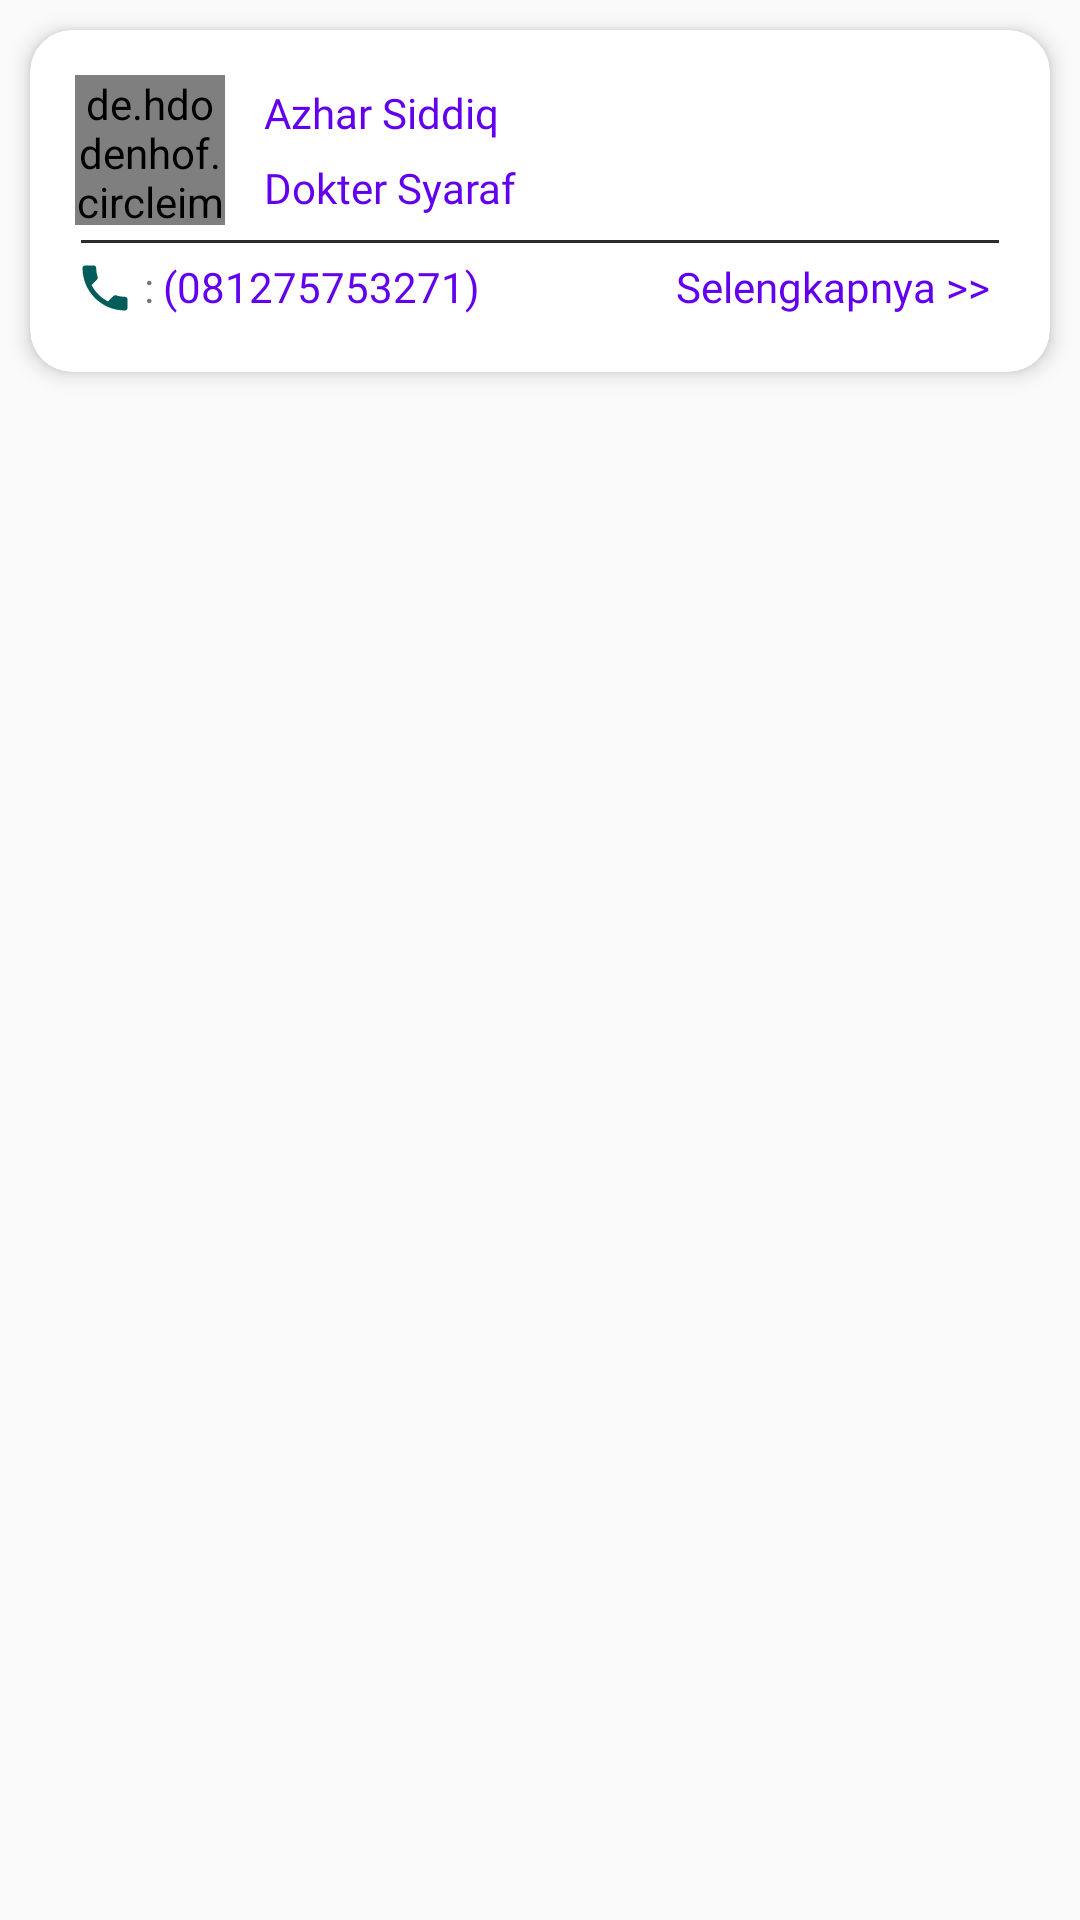

Where icons sit on this 1080 × 1920 app screen, as (x1, y1, x2, y2):
call: (82, 265, 128, 311)
